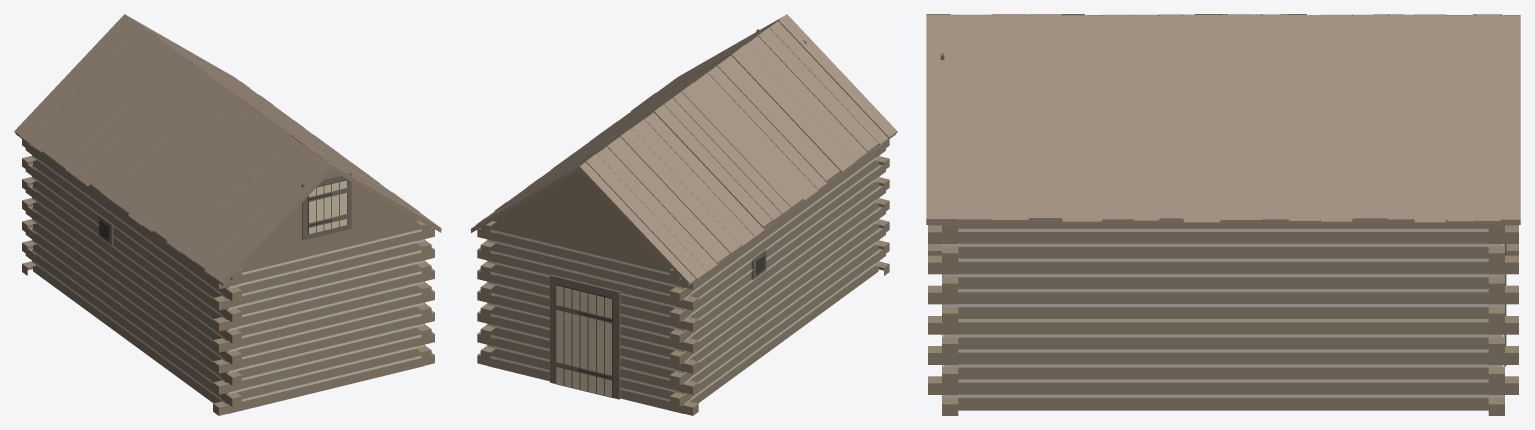
The model's file is recon_1835_blk_indiana_north_wolcott_a1_09__inferred_1835.glb.
3 views of the same model, side by side, from view 1: azimuth 30°, elevation 25°; view 2: azimuth 150°, elevation 25°; view 3: azimuth 270°, elevation 25° (orthographic). The views are drawn at different scales.
Visible parts, largest first — view 1: recon_1835_blk_indiana_north_wolcott_a1_09__inferred_1835; view 2: recon_1835_blk_indiana_north_wolcott_a1_09__inferred_1835; view 3: recon_1835_blk_indiana_north_wolcott_a1_09__inferred_1835.
Part boxes in pixels (bbox=[...]): recon_1835_blk_indiana_north_wolcott_a1_09__inferred_1835: bbox=[14, 14, 441, 415]; recon_1835_blk_indiana_north_wolcott_a1_09__inferred_1835: bbox=[470, 14, 897, 415]; recon_1835_blk_indiana_north_wolcott_a1_09__inferred_1835: bbox=[926, 14, 1520, 415].
Bounding box in the file's own units: 5.34 × 5.26 × 8.63.
